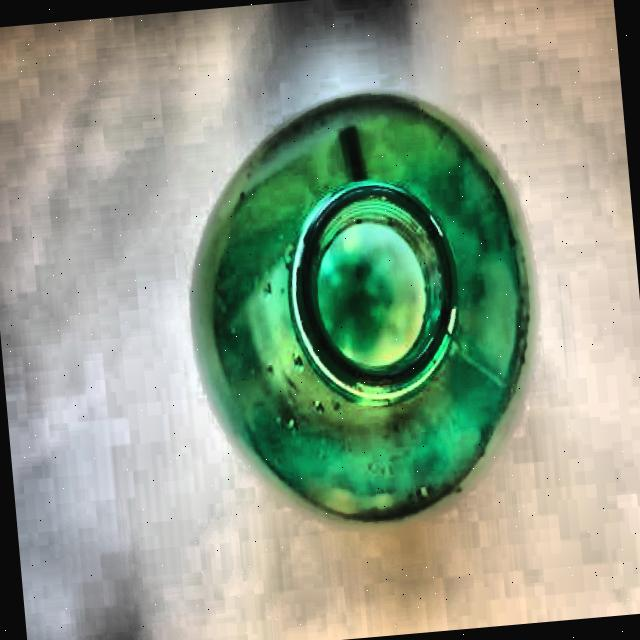plastic: (171, 77, 556, 535)
